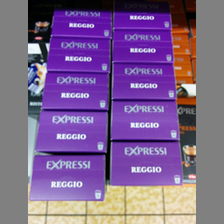coffee: (29, 153, 106, 203), (108, 141, 185, 187), (33, 110, 109, 153), (109, 99, 182, 142), (41, 70, 111, 110), (112, 62, 177, 102), (46, 37, 112, 72), (111, 29, 174, 64), (51, 9, 113, 39), (113, 3, 173, 30)
